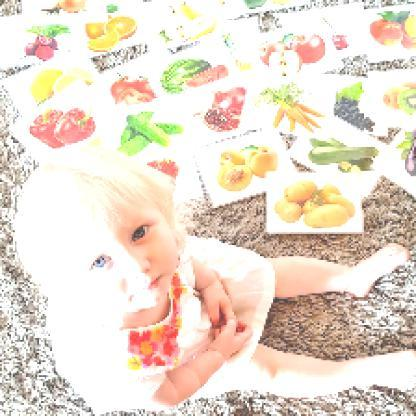child: (16, 146, 416, 416)
